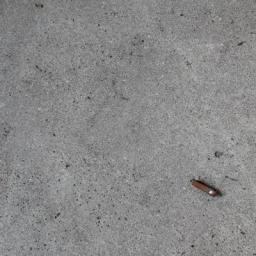FOD: (189, 174, 222, 202)
